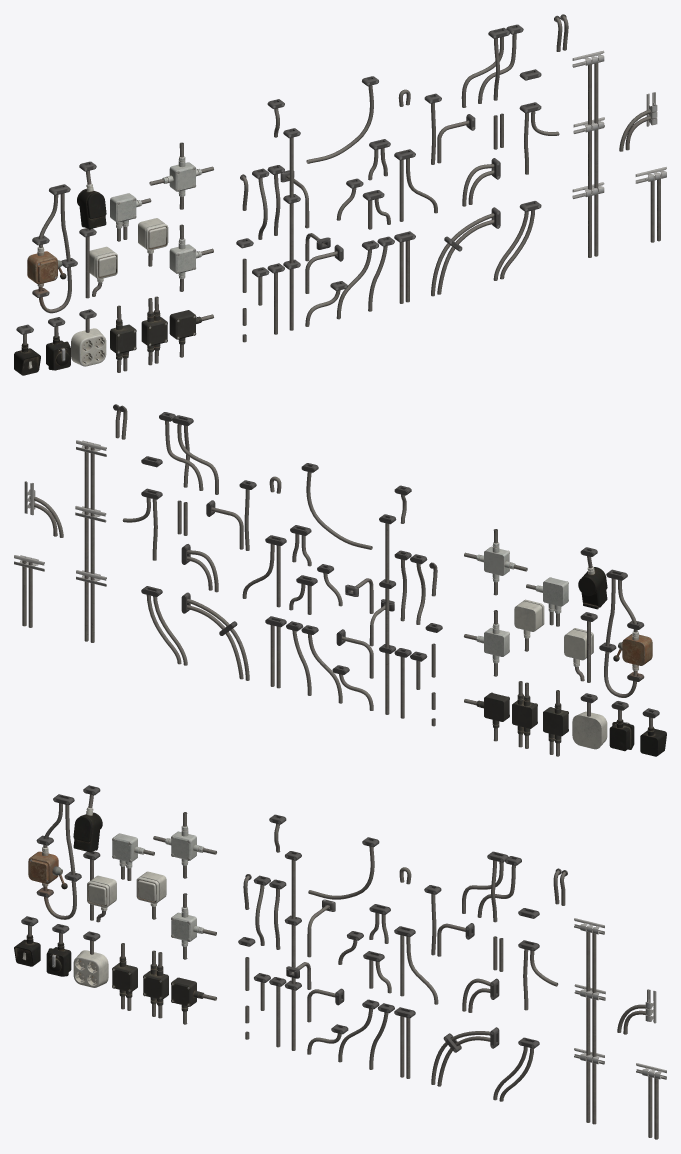
File: modular_electric_cables.glb
The picture shows the model from 3 angles, top to bottom: view 1: azimuth 30°, elevation 25°; view 2: azimuth 150°, elevation 25°; view 3: azimuth 330°, elevation 25°; orthographic projection.
Parts seen in each view (by area): view 1: cable_double_alt_long, cable_switch, cable_plug_4x, cable_3way_junction, cable_lightswitch_double, cable_straight_long, cable_plug_covered_2, cable_double_turn_long, cable_box_double, cable_box_4way, cable_box_3way, cable_box_double_to_single (+14 smaller); view 2: cable_double_alt_long, cable_switch, cable_3way_junction, cable_plug_4x, cable_straight_long, cable_lightswitch_double, cable_double_turn_long, cable_plug_covered_2, cable_box_double, cable_box_4way, cable_box_double_to_single_2, cable_box_3way (+14 smaller); view 3: cable_double_alt_long, cable_switch, cable_plug_4x, cable_3way_junction, cable_straight_long, cable_plug_covered_2, cable_lightswitch_double, cable_box_4way, cable_box_double, cable_double_turn_long, cable_box_3way, cable_box_double_to_single (+14 smaller).
Boxes of the visible parts, x1,y1,x2,y2 form: cable_double_alt_long: [572, 50, 604, 257]; cable_switch: [27, 184, 77, 313]; cable_plug_4x: [71, 309, 106, 366]; cable_3way_junction: [461, 24, 523, 107]; cable_lightswitch_double: [79, 228, 117, 298]; cable_straight_long: [283, 128, 300, 330]; cable_plug_covered_2: [77, 161, 106, 228]; cable_double_turn_long: [431, 207, 500, 296]; cable_box_double: [141, 296, 167, 365]; cable_box_4way: [149, 142, 213, 209]; cable_box_3way: [169, 224, 213, 291]; cable_box_double_to_single: [110, 305, 136, 372]; cable_double_alt_long: [75, 440, 106, 642]; cable_switch: [599, 569, 652, 697]; cable_3way_junction: [159, 412, 218, 494]; cable_plug_4x: [572, 693, 607, 749]; cable_straight_long: [379, 514, 396, 714]; cable_lightswitch_double: [564, 612, 597, 682]; cable_double_turn_long: [181, 592, 249, 680]; cable_plug_covered_2: [578, 547, 607, 609]; cable_box_double: [512, 681, 537, 748]; cable_box_4way: [464, 529, 527, 595]; cable_box_double_to_single_2: [526, 577, 568, 626]; cable_box_3way: [464, 610, 509, 676]; cable_double_alt_long: [574, 918, 605, 1124]; cable_switch: [28, 794, 81, 919]; cable_plug_4x: [73, 931, 108, 987]; cable_3way_junction: [462, 851, 521, 922]; cable_straight_long: [284, 851, 301, 1050]; cable_plug_covered_2: [73, 785, 102, 852]; cable_lightswitch_double: [83, 851, 116, 922]; cable_box_4way: [153, 812, 216, 878]; cable_box_double: [143, 950, 168, 1018]; cable_double_turn_long: [431, 1027, 499, 1086]; cable_box_3way: [171, 893, 216, 959]; cable_box_double_to_single: [112, 943, 137, 1010].
Size of the model in its own units: 2.08 by 0.7573 by 0.2145.
2 materials, 2 textured.
